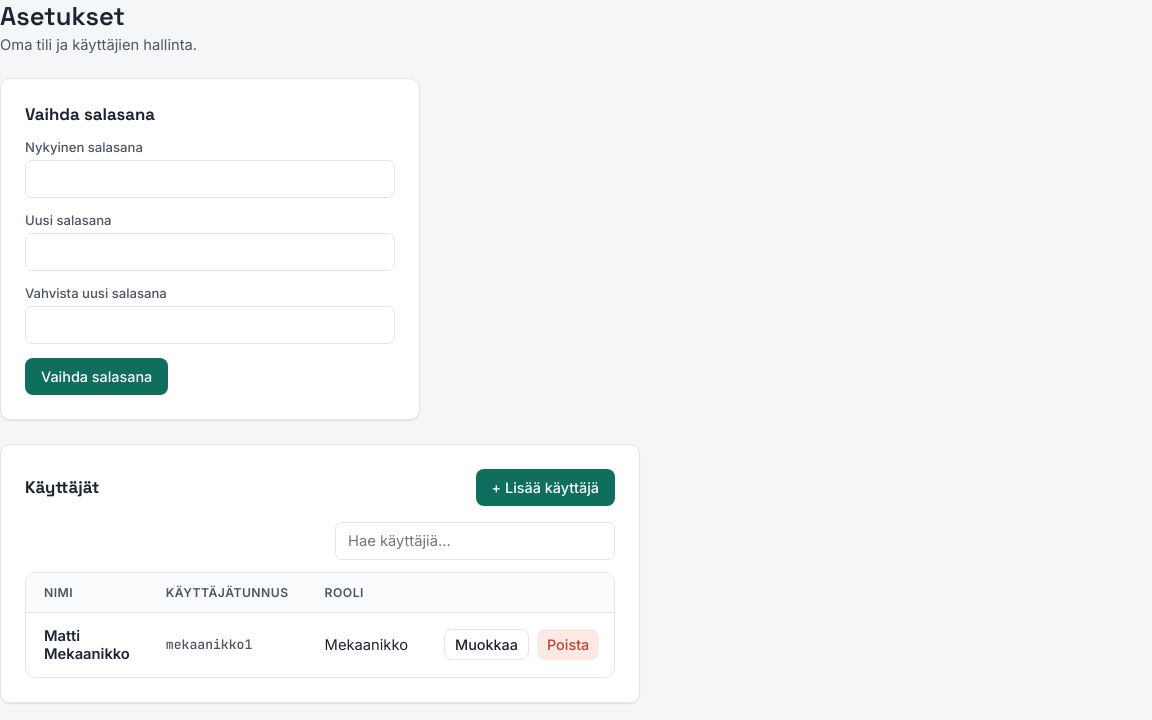
Scenario: UserManagementCard › poisto-nappi pysyy pois käytöstä kunnes käyttäjätunnus kirjoitetaan oikein
Expected: the text "mekaanikko1" is shown, [148,612,307,677]
Click the button "Poista" at (568, 645), box [537,629,599,660]
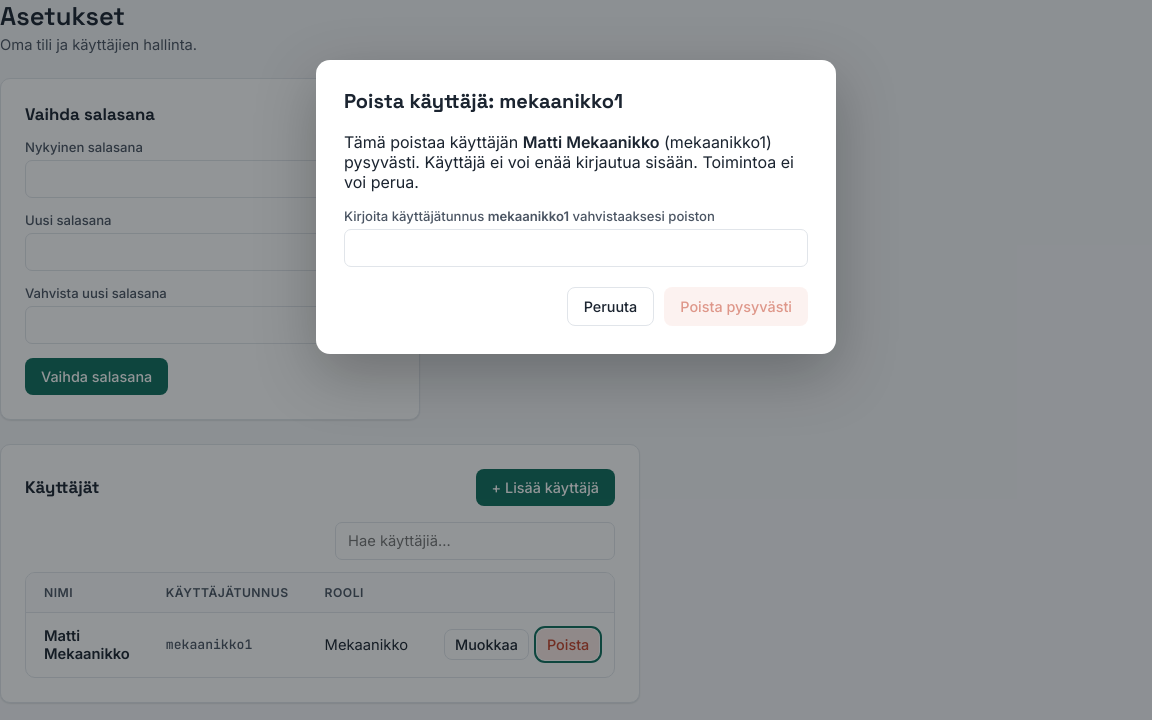
Expected: the button "Poista pysyvästi" is disabled, [664,287,808,326]
Type "vaarateksti" into the field labelled "Kirjoita käyttäjätunnus mekaanikko1 vahvistaaksesi poiston" at (576, 248), box [344,229,808,267]
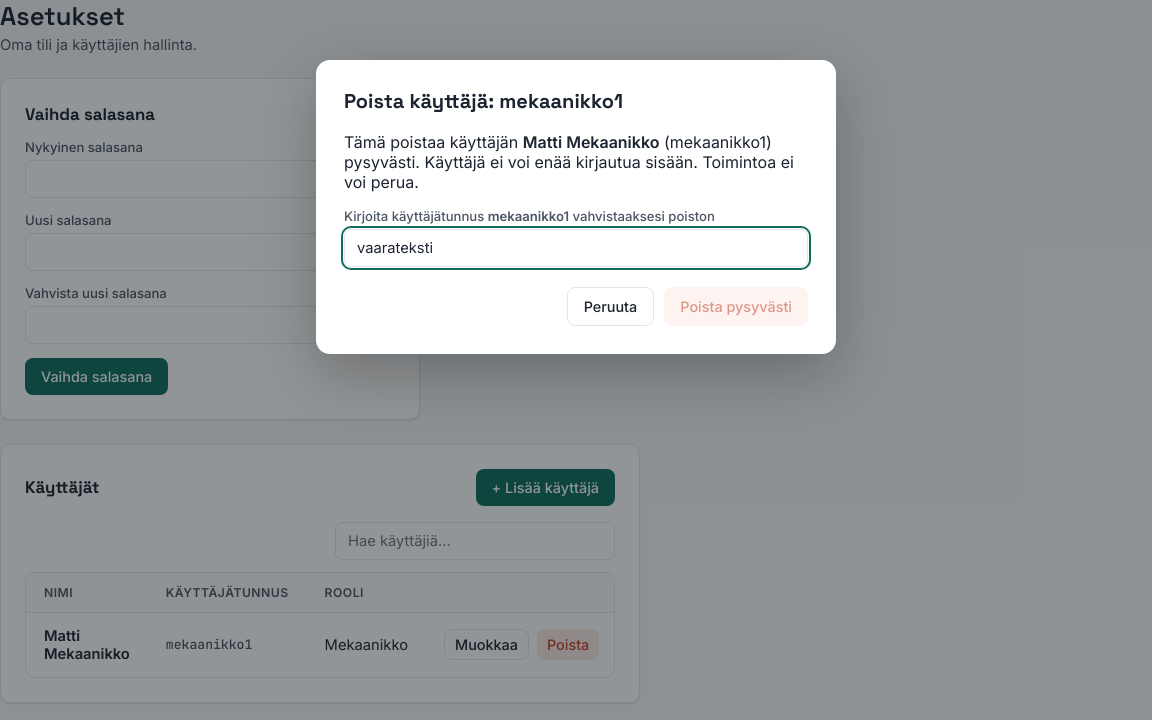
Expected: the button "Poista pysyvästi" is disabled, [664,287,808,326]
Replace the text in the field labelled "Kirjoita käyttäjätunnus mekaanikko1 vahvistaaksesi poiston" with "mekaanikko1" at (576, 248), box [344,229,808,267]
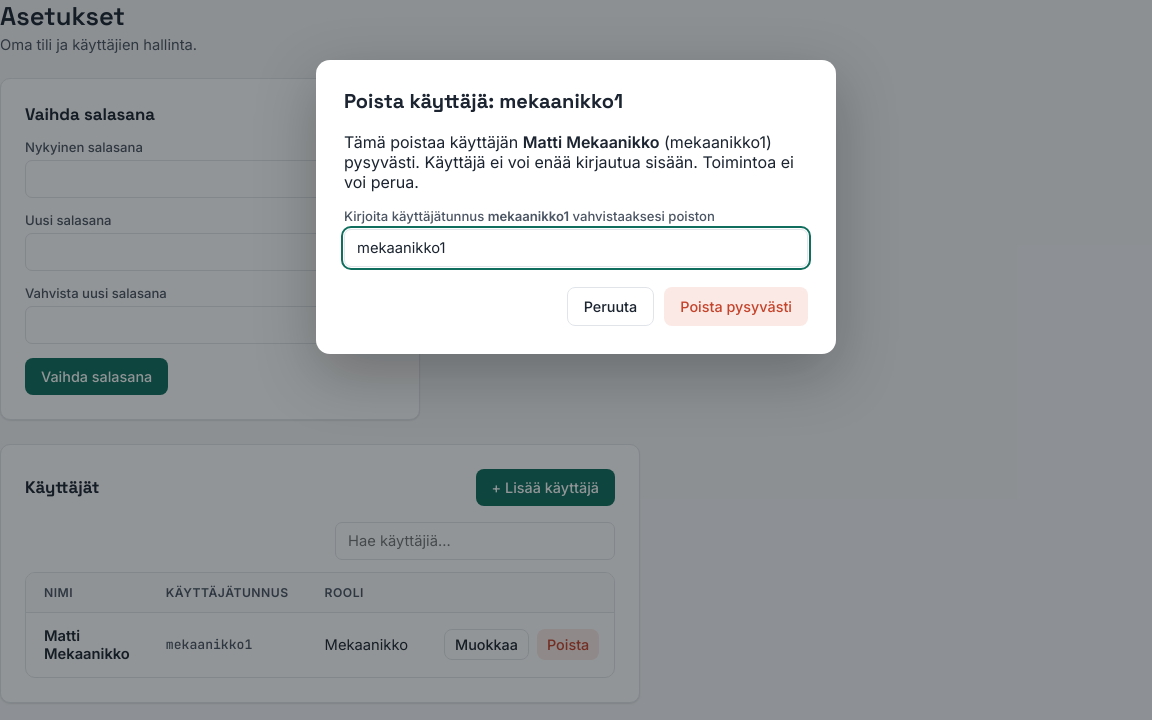
Expected: the button "Poista pysyvästi" is enabled, [664,287,808,326]
